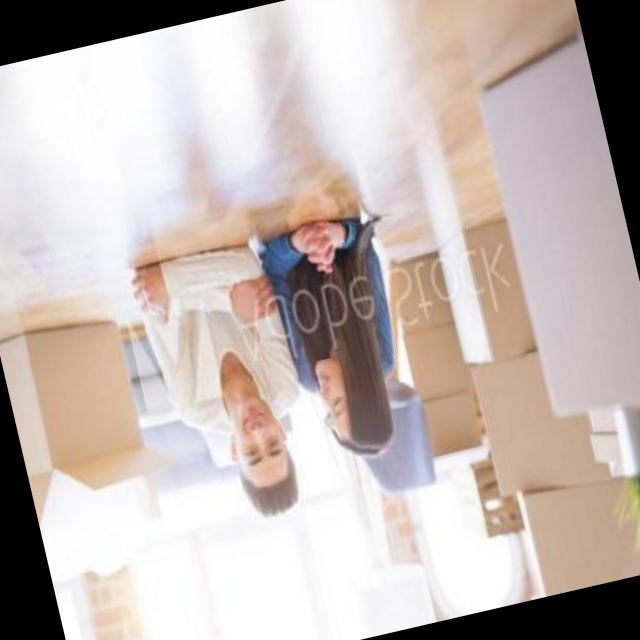box: (0, 298, 202, 593), (468, 340, 617, 502), (423, 201, 538, 368), (519, 466, 640, 597)
